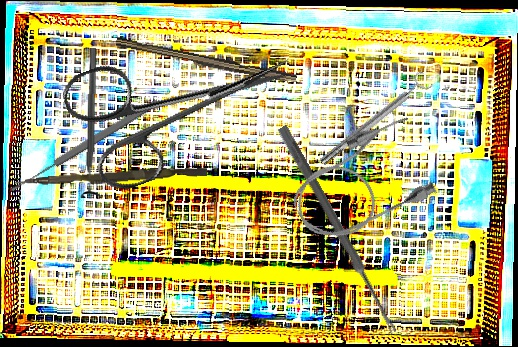Cannula: (278, 109, 445, 255)
Fixation Ring: (314, 69, 435, 171), (78, 47, 106, 199)
Iris Scissors: (57, 5, 310, 200)
Pusher: (14, 162, 208, 193)
Scalpel Handle: (114, 36, 298, 87)
Surgical Spoon: (276, 124, 400, 336), (6, 96, 162, 196)
